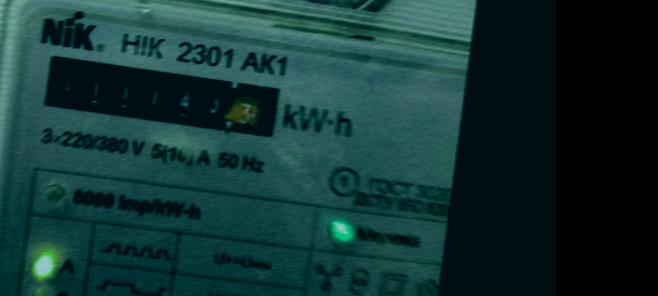0: (57, 66, 74, 95)
1: (117, 74, 133, 103), (89, 70, 102, 98)
3: (205, 88, 223, 117), (235, 101, 252, 128)
4: (176, 84, 193, 113)
7: (146, 77, 165, 107)
screen: (32, 44, 292, 150)
